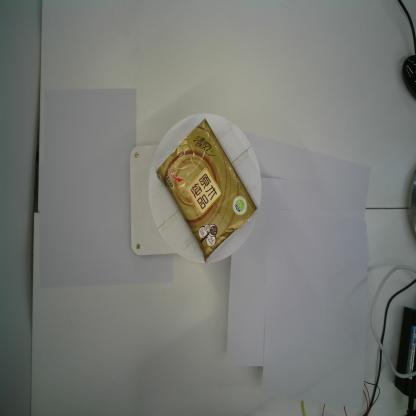Tissue: (154, 114, 258, 266)
